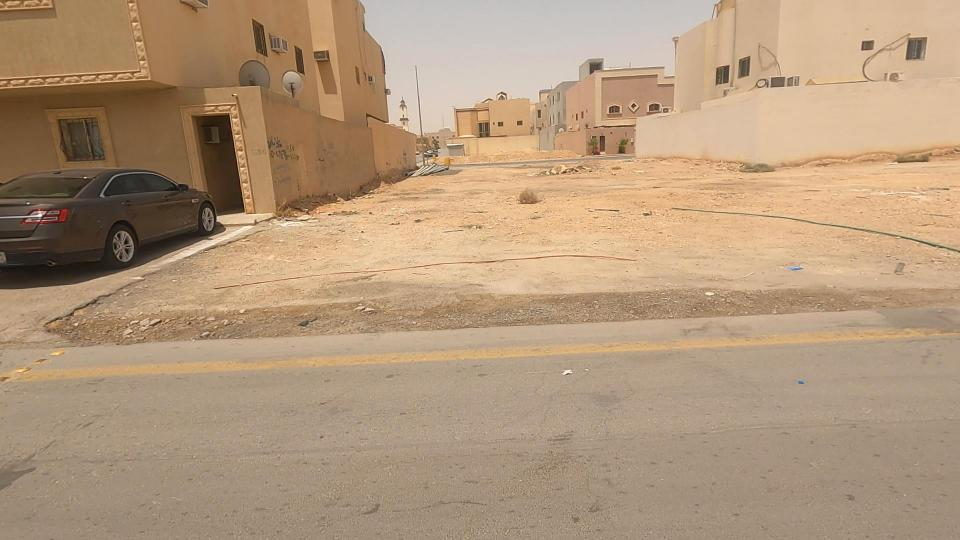GARBAGE: (611, 189, 868, 238), (502, 143, 622, 193), (759, 242, 822, 291)
